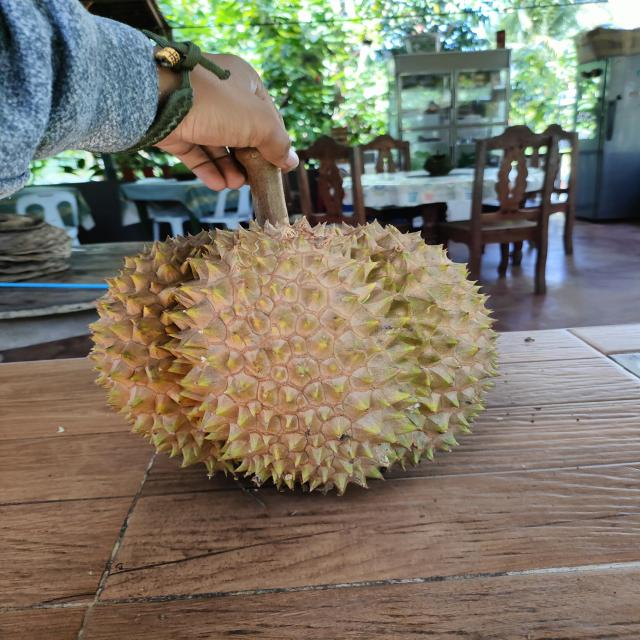mature: (70, 213, 506, 498)
